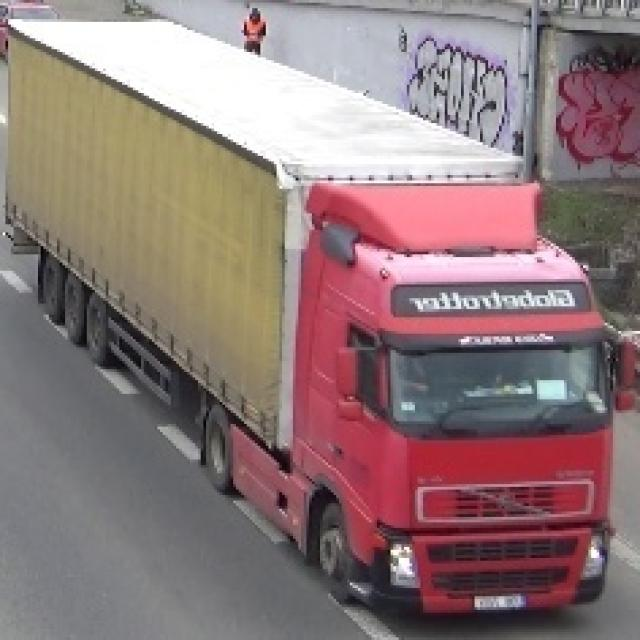TRUCK: (0, 8, 622, 621)
